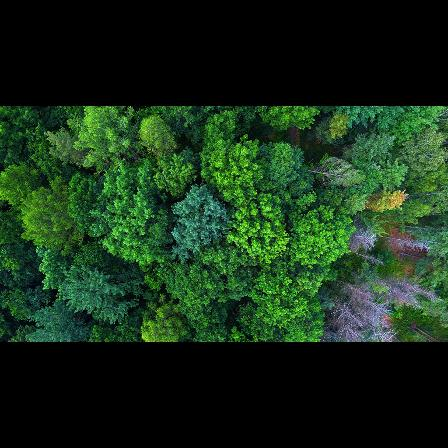Dead: (345, 296, 388, 329), (387, 273, 438, 300), (358, 275, 409, 302), (337, 215, 375, 248), (354, 315, 397, 341), (323, 296, 360, 323), (337, 276, 371, 301), (341, 247, 384, 265)
